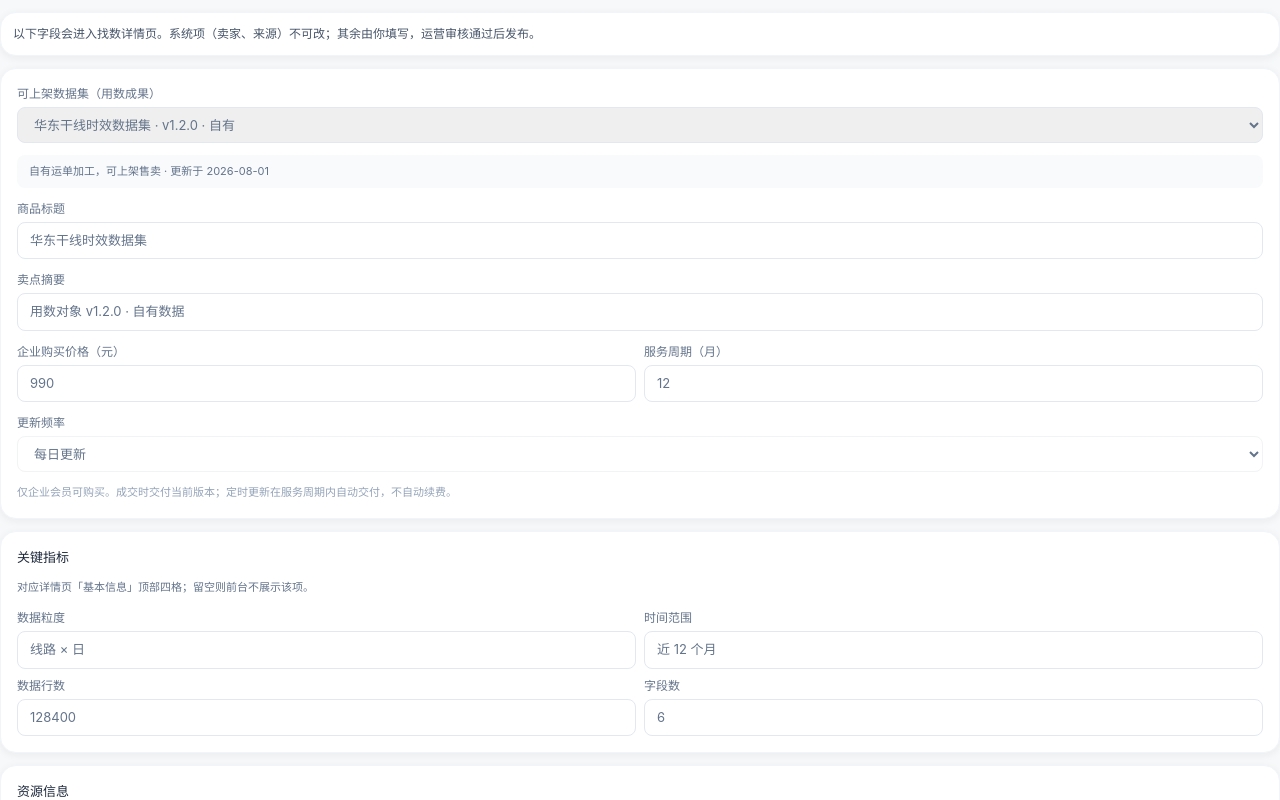
Scenario: SellerListingApply trade terms › shows frequency validation without submitting an incomplete listing
The image size is (1280, 800).
Select "请选择更新频率" in the dropdown with test id "seller-listing-update-frequency" at coordinates (640, 454), box [17,436,1263,472]
(page scrolled)
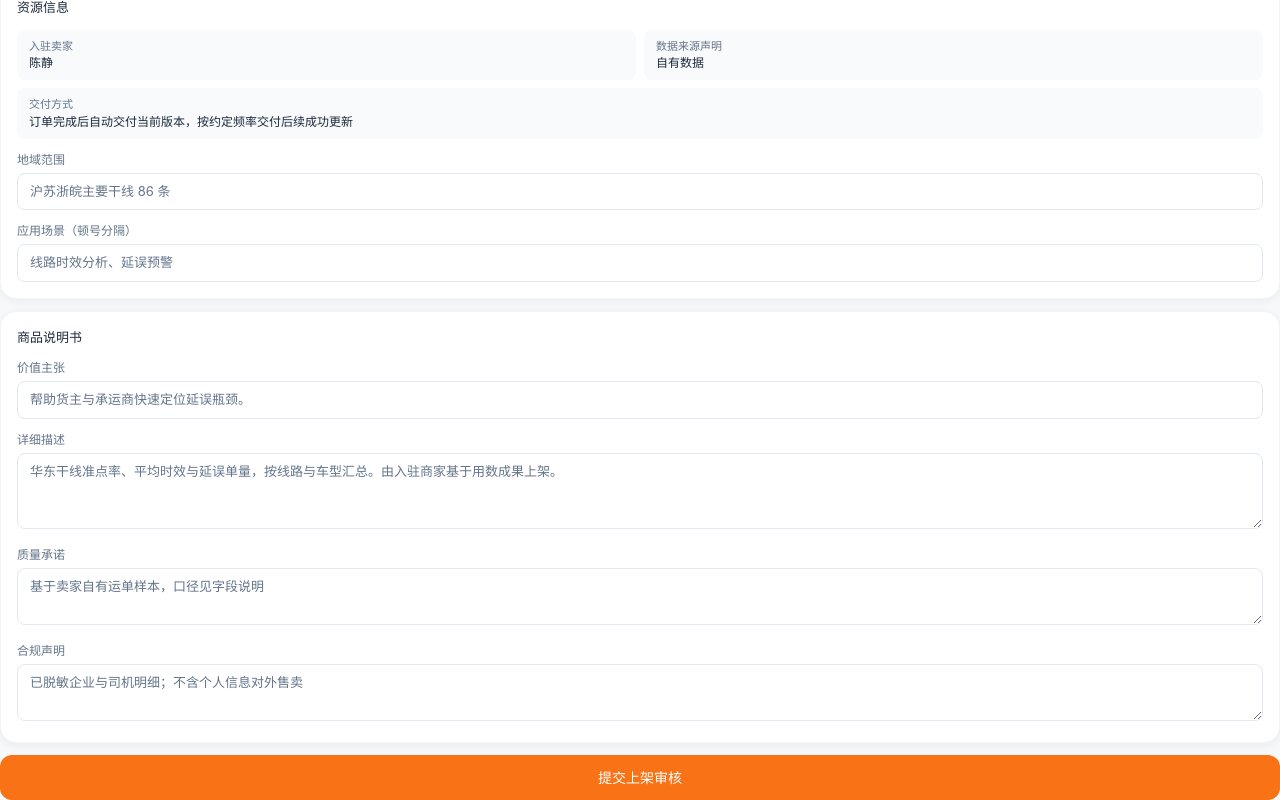
Click the button "提交上架审核" at coordinates (640, 778), box [0,755,1279,799]
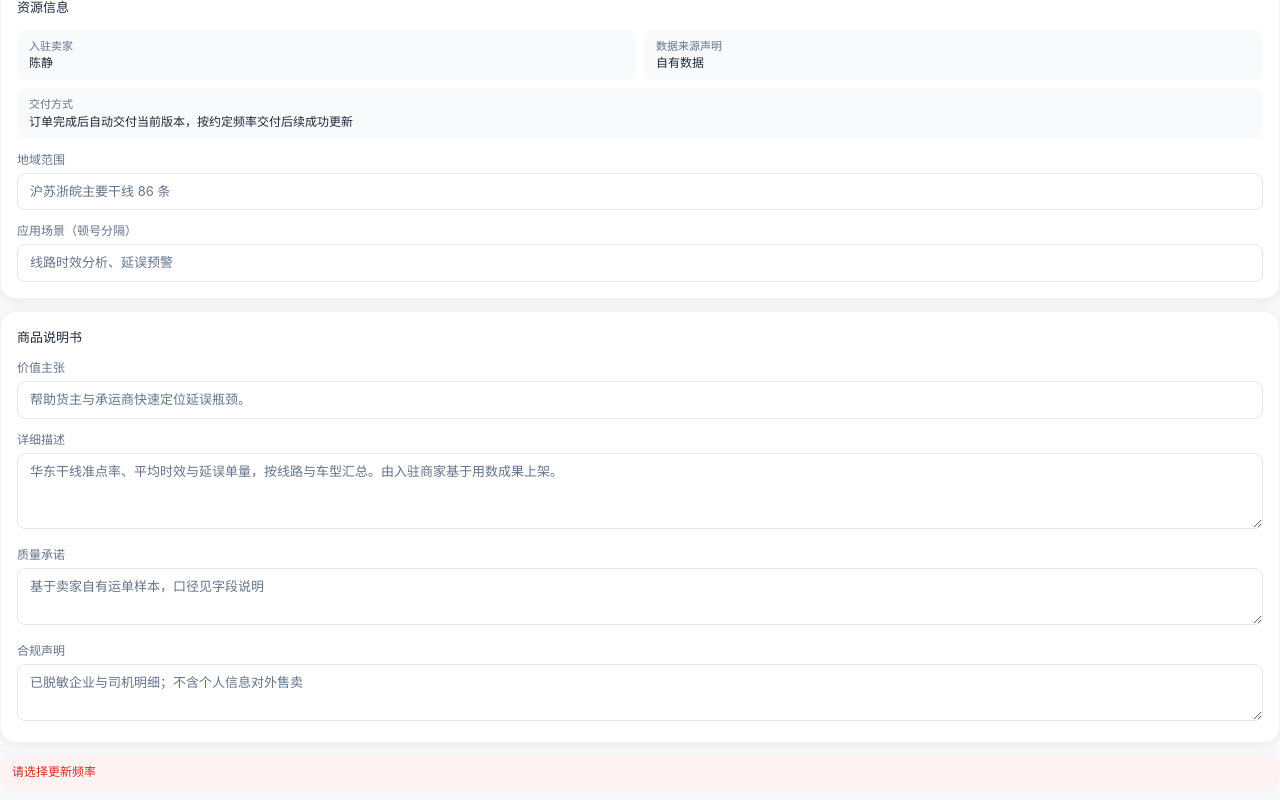
expect the text "请选择更新频率" is shown: met, box [0,755,1279,789]
